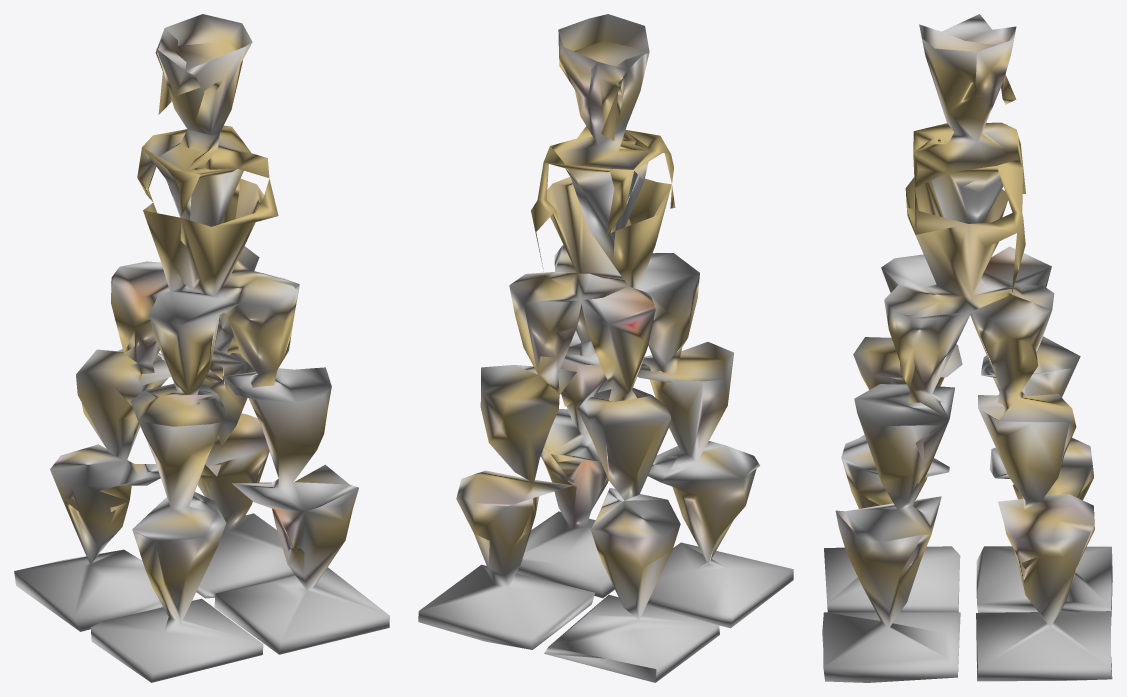
File: gen3d-champagne-tower-lod1.glb
The picture shows the model from 3 angles, left to right: view 1: azimuth 30°, elevation 25°; view 2: azimuth 150°, elevation 25°; view 3: azimuth 270°, elevation 25°; orthographic projection. The views are drawn at different scales.
Parts seen in each view (by area): view 1: part_0; view 2: part_0; view 3: part_0.
Part boxes in pixels (box(x1,y1,x2,y2)): part_0: box(14, 14, 389, 682); part_0: box(418, 14, 793, 682); part_0: box(822, 14, 1112, 682).
Bounding box in the file's own units: 0.441 × 0.9993 × 0.4417.
